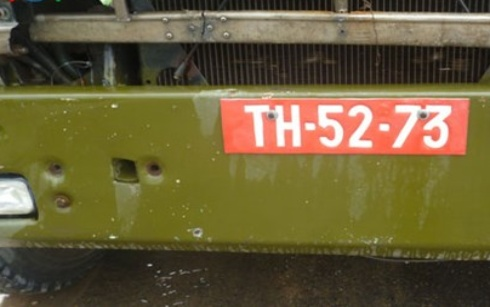plate: (218, 95, 469, 158)
